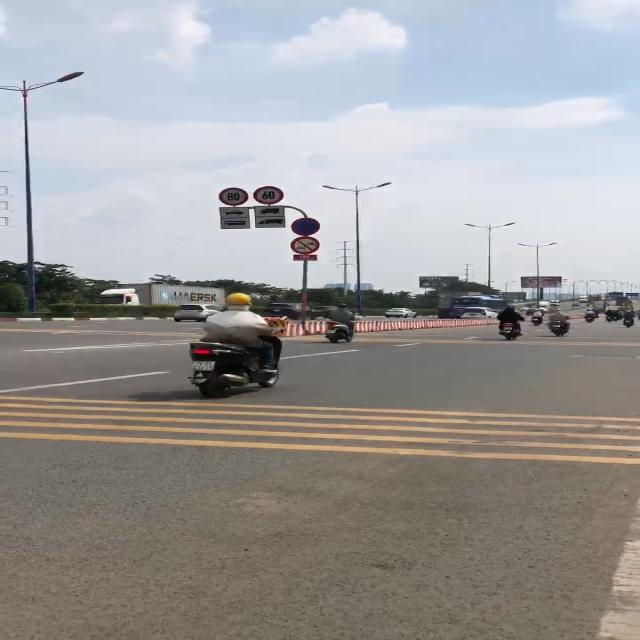Bien bao cam dung xe va do xe: (289, 217, 322, 237)
Bien bao toc do toi da cho phep: (250, 184, 285, 206), (216, 185, 248, 206)
